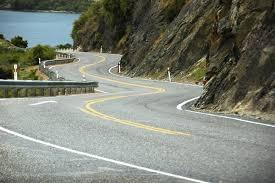road: (0, 52, 274, 181)
